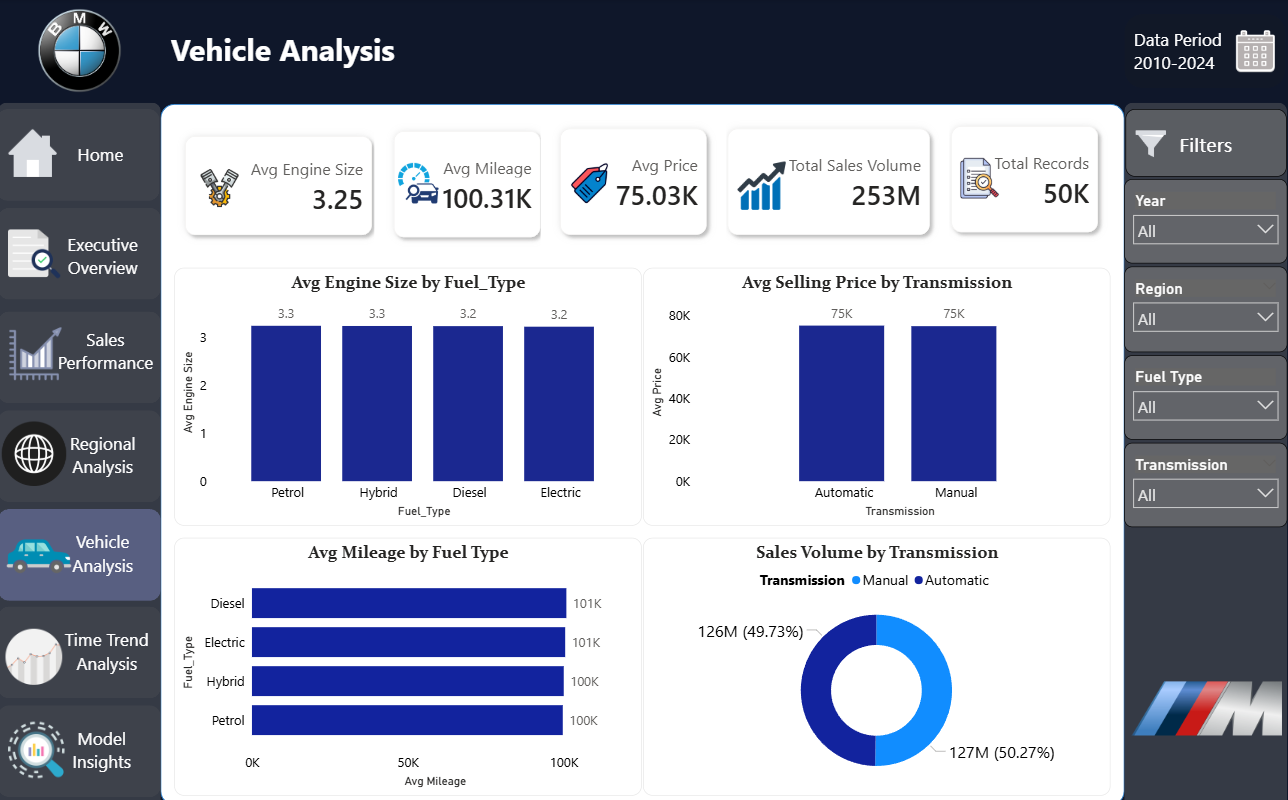

What the dashboard file says about the page in this screenshot:
{"tool":"powerbi","page":{"name":"Vehicle Analysis","canvas":[1600,1000],"ordinal":4},"visuals":[{"type":"shape","box":[1398,18,200,92],"z":0,"group":"g14"},{"type":"shape","box":[1398,128,202,872],"z":0},{"type":"shape","box":[0,258.8,202,114],"z":0,"group":"g7"},{"type":"shape","box":[-0.3,387.9,202,114],"z":0,"group":"g3"},{"type":"shape","box":[0,510,202,114],"z":0,"group":"g4"},{"type":"shape","box":[0,875.8,202,114],"z":0,"group":"g1"},{"type":"image","box":[1528,38,64,52],"z":1000,"group":"g14"},{"type":"shape","box":[202,130,1196,870],"z":1000},{"type":"actionButton","box":[76,510,108,109],"z":1000,"group":"g4"},{"type":"shape","box":[0,128,202,872],"z":2000},{"type":"image","box":[12.8,275.9,65,80],"z":2000,"group":"g7"},{"type":"image","box":[14.2,399,65,80],"z":2000,"group":"g3"},{"type":"image","box":[4.3,524.1,80,80],"z":2000,"group":"g4"},{"type":"image","box":[12.8,890.9,70,80],"z":2000,"group":"g1"},{"type":"actionButton","box":[76,262.8,108,108],"z":2500,"group":"g7"},{"type":"actionButton","box":[70.2,381,127,109],"z":2500,"group":"g3"},{"type":"actionButton","box":[70,875.8,118,110],"z":2500,"group":"g1"},{"type":"cardVisual","fields":{"Data":["fact_bmw_sales.Avg Engine Size"]},"box":[202.9,141,290.5,181.6],"z":3000,"group":"g9"},{"type":"clusteredColumnChart","fields":{"Category":["fact_bmw_sales.Fuel_Type"],"Y":["fact_bmw_sales.Avg Engine Size"]},"box":[218,334,580,320],"z":3000},{"type":"cardVisual","fields":{"Data":["fact_bmw_sales.Avg Mileage"]},"box":[461.4,134.6,240,190],"z":4000,"group":"g10"},{"type":"clusteredBarChart","title":"Avg Mileage by Fuel Type","fields":{"Category":["fact_bmw_sales.Fuel_Type"],"Y":["fact_bmw_sales.Avg Mileage"]},"box":[218,668,580,320],"z":4000},{"type":"cardVisual","fields":{"Data":["fact_bmw_sales.Avg Price"]},"box":[668.6,132.4,240,190],"z":5000,"group":"g13"},{"type":"clusteredColumnChart","title":"Avg Selling Price by Transmission","fields":{"Category":["fact_bmw_sales.Transmission"],"Y":["fact_bmw_sales.Avg Price"]},"box":[800,334,580,320],"z":5000},{"type":"cardVisual","fields":{"Data":["fact_bmw_sales.Total Sales Volume"]},"box":[875.8,132.4,309.7,190.1],"z":6000,"group":"g12"},{"type":"donutChart","title":"Sales Volume by Transmission","fields":{"Category":["fact_bmw_sales.Transmission"],"Y":["fact_bmw_sales.Total Sales Volume"]},"box":[800,668,580,320],"z":6000},{"type":"image","box":[0,0,202,128],"z":7000},{"type":"cardVisual","fields":{"Data":["fact_bmw_sales.Total Records"]},"box":[1153.5,128.2,240,190],"z":7000,"group":"g11"},{"type":"group","id":"g1","title":"Group 11","box":[0,875.8,202.9,113.2],"z":8000},{"type":"group","id":"g2","title":"Group 12","box":[0,754.4,202.9,113.2],"z":9000},{"type":"group","id":"g3","title":"Group 10","box":[-0.3,381,202,120.9],"z":10000},{"type":"group","id":"g4","title":"Group 14","box":[0,510,202,114],"z":11000},{"type":"group","id":"g5","title":"Group 13","box":[-0.8,136.6,202,114],"z":12000},{"type":"group","id":"g6","title":"Group 9","box":[0,632.2,202,114],"z":13000},{"type":"group","id":"g7","title":"Group 15","box":[0,258.8,202,114],"z":14000},{"type":"slicer","fields":{"Values":["fact_bmw_sales.Year"]},"box":[1398,224,202,105],"z":15000},{"type":"slicer","fields":{"Values":["fact_bmw_sales.Transmission"]},"box":[1398,550,202,105],"z":16000},{"type":"image","box":[914.9,202.6,64.5,60],"z":17000,"group":"g12"},{"type":"slicer","fields":{"Values":["fact_bmw_sales.Region"]},"box":[1398,332.4,202,106],"z":17000},{"type":"textbox","box":[1399.2,136.7,200,84],"z":18000,"group":"g8"},{"type":"slicer","fields":{"Values":["fact_bmw_sales.Fuel_Type"]},"box":[1398,441.7,202,105],"z":18000},{"type":"image","box":[1405.6,153.8,50,50],"z":19000,"group":"g8"},{"type":"image","box":[1406,828,186,104],"z":19000},{"type":"group","id":"g8","title":"Group 16","box":[1399.2,136.7,200,84],"z":20000},{"type":"image","box":[708.6,198.4,50,60],"z":20000,"group":"g13"},{"type":"shape","box":[0,632.2,202,114],"z":20007,"group":"g6"},{"type":"shape","box":[0,754.4,202,114],"z":20008,"group":"g2"},{"type":"image","box":[8.5,767.3,70,100],"z":20018,"group":"g2"},{"type":"image","box":[10.7,651.2,80,80],"z":20019,"group":"g6"},{"type":"actionButton","box":[76,754.4,118,110],"z":20518,"group":"g2"},{"type":"actionButton","box":[76,632.2,108,109],"z":20519,"group":"g6"},{"type":"group","id":"g9","title":"Group 1","box":[202.9,141,290.5,181.6],"z":21000},{"type":"group","id":"g10","title":"Group 2","box":[461.4,134.6,239.3,190.1],"z":22000},{"type":"group","id":"g11","title":"Group 3","box":[1153.5,128.2,241.4,190.1],"z":23000},{"type":"group","id":"g12","title":"Group 4","box":[875.8,132.4,309.7,190.1],"z":24000},{"type":"group","id":"g13","title":"Group 5","box":[668.6,132.4,239.3,190.1],"z":25000},{"type":"shape","box":[-0.8,136.6,202,114],"z":25000,"group":"g5"},{"type":"textbox","box":[210,32,298,70],"z":26000},{"type":"group","id":"g14","title":"Group 17","box":[1398,18,200,92],"z":27000},{"type":"image","box":[4.3,151.7,80,80],"z":27000,"group":"g5"},{"type":"actionButton","box":[69.2,136.6,118,110],"z":27500,"group":"g5"},{"type":"image","box":[1192,192.3,50,60],"z":28000,"group":"g11"},{"type":"image","box":[495.6,198.7,50,60],"z":29000,"group":"g10"},{"type":"image","box":[249.1,203.8,50,60],"z":30000,"group":"g9"}]}

Visuals, with their boxes in screenshot pixels (x1, y1, x2, y2), scaled from the page's 1600x1000 canvas onto the 1288x800 screenshot:
shape: bbox(1125, 14, 1286, 88)
shape: bbox(1125, 102, 1287, 799)
shape: bbox(0, 207, 163, 298)
shape: bbox(0, 310, 162, 402)
shape: bbox(0, 408, 163, 499)
shape: bbox(0, 701, 163, 792)
image: bbox(1230, 30, 1282, 72)
shape: bbox(163, 104, 1125, 799)
actionButton: bbox(61, 408, 148, 495)
shape: bbox(0, 102, 163, 799)
image: bbox(10, 221, 63, 285)
image: bbox(11, 319, 64, 383)
image: bbox(3, 419, 68, 483)
image: bbox(10, 713, 67, 777)
actionButton: bbox(61, 210, 148, 297)
actionButton: bbox(57, 305, 159, 392)
actionButton: bbox(56, 701, 151, 789)
cardVisual - fact_bmw_sales.Avg Engine Size: bbox(163, 113, 397, 258)
clusteredColumnChart - fact_bmw_sales.Fuel_Type x fact_bmw_sales.Avg Engine Size: bbox(175, 267, 642, 523)
cardVisual - fact_bmw_sales.Avg Mileage: bbox(371, 108, 565, 260)
"Avg Mileage by Fuel Type" clusteredBarChart: bbox(175, 534, 642, 790)
cardVisual - fact_bmw_sales.Avg Price: bbox(538, 106, 731, 258)
"Avg Selling Price by Transmission" clusteredColumnChart: bbox(644, 267, 1111, 523)
cardVisual - fact_bmw_sales.Total Sales Volume: bbox(705, 106, 954, 258)
"Sales Volume by Transmission" donutChart: bbox(644, 534, 1111, 790)
image: bbox(0, 0, 163, 102)
cardVisual - fact_bmw_sales.Total Records: bbox(929, 103, 1122, 255)
"Group 11" group: bbox(0, 701, 163, 791)
"Group 12" group: bbox(0, 604, 163, 694)
"Group 10" group: bbox(0, 305, 162, 402)
"Group 14" group: bbox(0, 408, 163, 499)
"Group 13" group: bbox(0, 109, 162, 200)
"Group 9" group: bbox(0, 506, 163, 597)
"Group 15" group: bbox(0, 207, 163, 298)
slicer - fact_bmw_sales.Year: bbox(1125, 179, 1287, 263)
slicer - fact_bmw_sales.Transmission: bbox(1125, 440, 1287, 524)
image: bbox(736, 162, 788, 210)
slicer - fact_bmw_sales.Region: bbox(1125, 266, 1287, 351)
textbox: bbox(1126, 109, 1287, 177)
slicer - fact_bmw_sales.Fuel_Type: bbox(1125, 353, 1287, 437)
image: bbox(1132, 123, 1172, 163)
image: bbox(1132, 662, 1282, 746)
"Group 16" group: bbox(1126, 109, 1287, 177)
image: bbox(570, 159, 611, 207)
shape: bbox(0, 506, 163, 597)
shape: bbox(0, 604, 163, 695)
image: bbox(7, 614, 63, 694)
image: bbox(9, 521, 73, 585)
actionButton: bbox(61, 604, 156, 692)
actionButton: bbox(61, 506, 148, 593)
"Group 1" group: bbox(163, 113, 397, 258)
"Group 2" group: bbox(371, 108, 564, 260)
"Group 3" group: bbox(929, 103, 1123, 255)
"Group 4" group: bbox(705, 106, 954, 258)
"Group 5" group: bbox(538, 106, 731, 258)
shape: bbox(0, 109, 162, 200)
textbox: bbox(169, 26, 409, 82)
"Group 17" group: bbox(1125, 14, 1286, 88)
image: bbox(3, 121, 68, 185)
actionButton: bbox(56, 109, 151, 197)
image: bbox(960, 154, 1000, 202)
image: bbox(399, 159, 439, 207)
image: bbox(201, 163, 241, 211)
